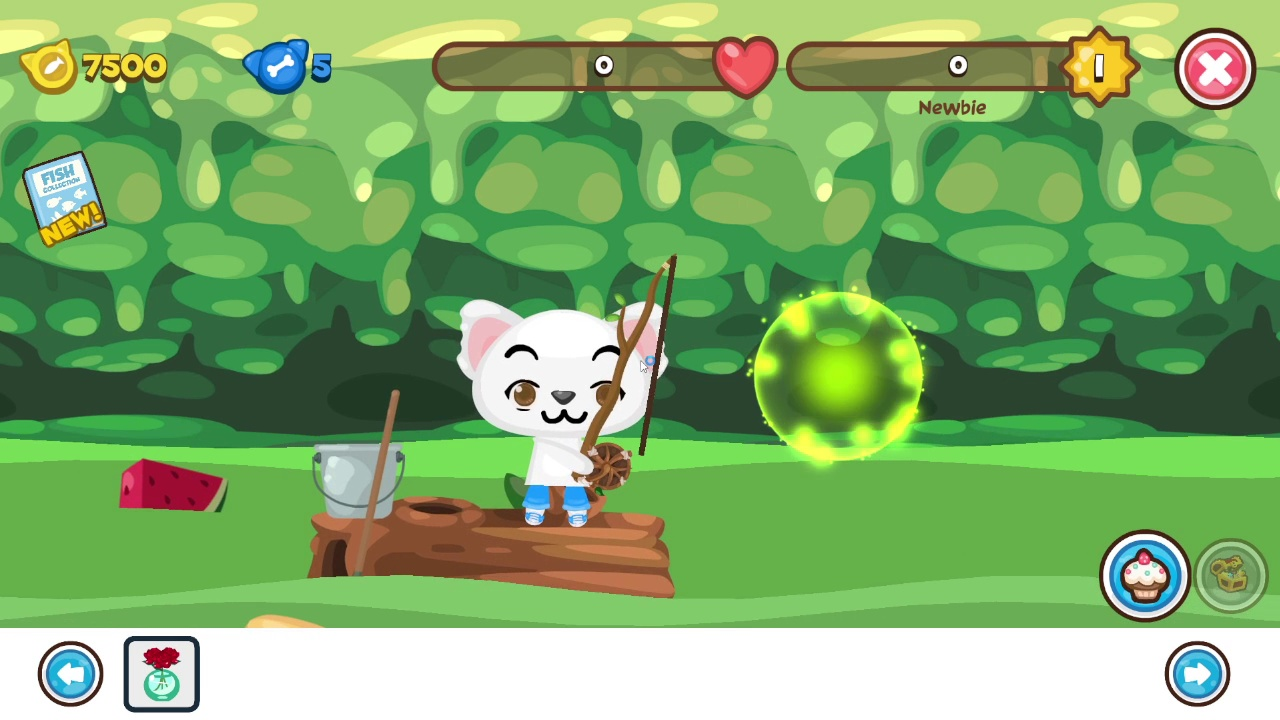point: (752, 292, 924, 463)
